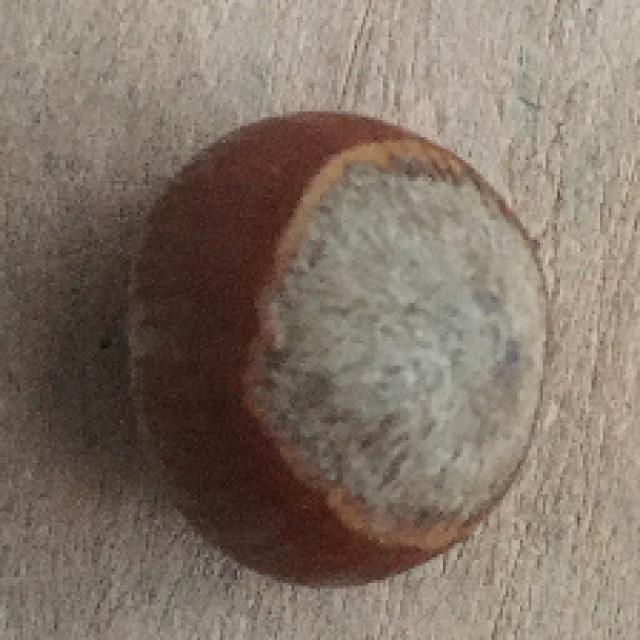qualityHazelnut: (136, 111, 552, 592)
